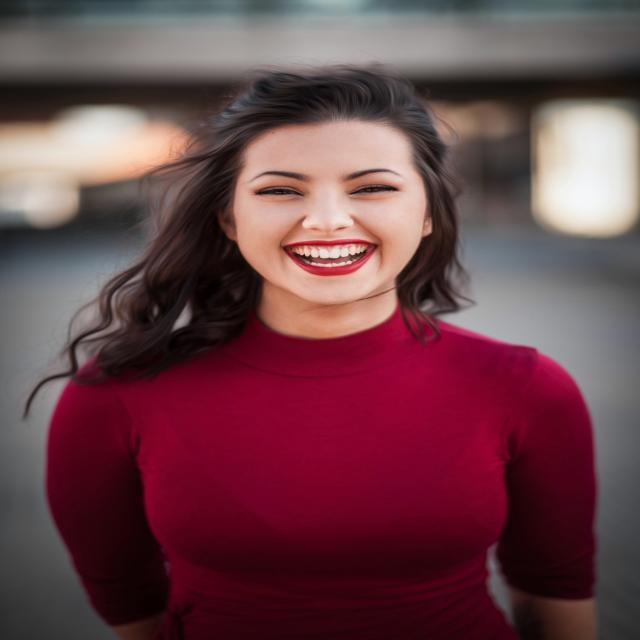adult: (48, 75, 593, 640)
